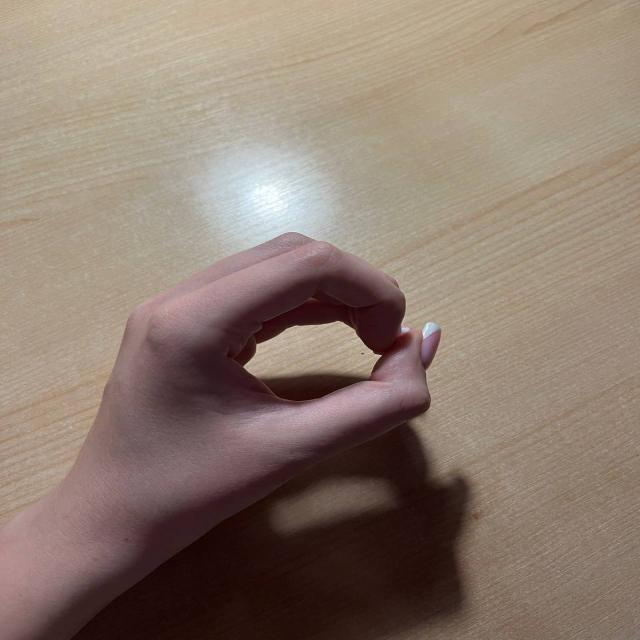e: (89, 197, 478, 525)
